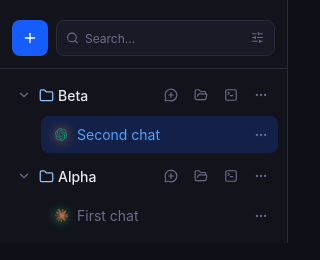
Test: Sidebar › filters projects by project name when searching
Type "Alpha" into the field named "Search projects and chats" at (166, 38), box [56,20,275,56]
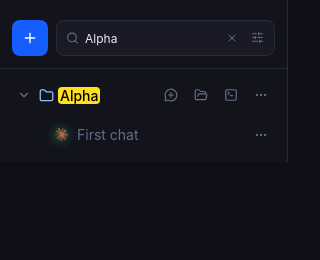
expect the text "First chat" is shown: met, box [77,126,139,143]
expect the button "Second chat" is gone: met
